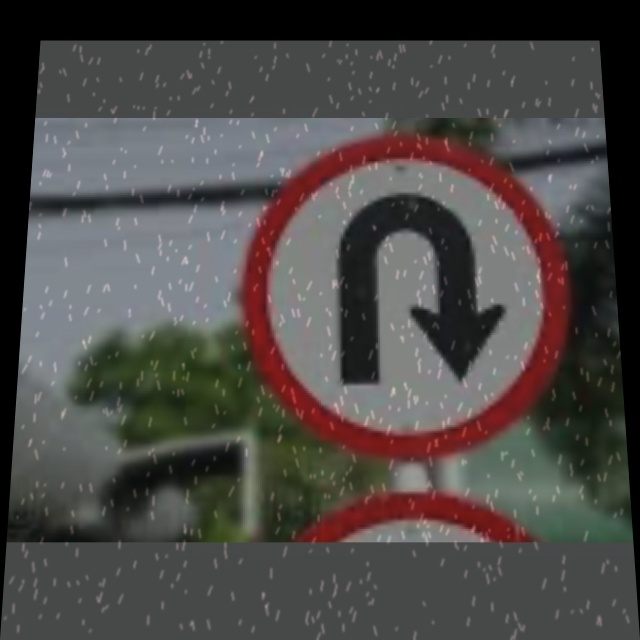U_Turn_Ahead: (244, 146, 575, 440)
